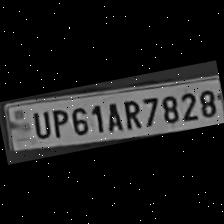1: (86, 100, 107, 134)
2: (174, 86, 200, 123)
6: (65, 101, 92, 136)
7: (138, 92, 162, 128)
8: (156, 89, 180, 125), (194, 84, 218, 119)
A: (99, 97, 124, 133)
P: (47, 104, 71, 138)
R: (118, 94, 144, 131)
U: (27, 106, 53, 140)
